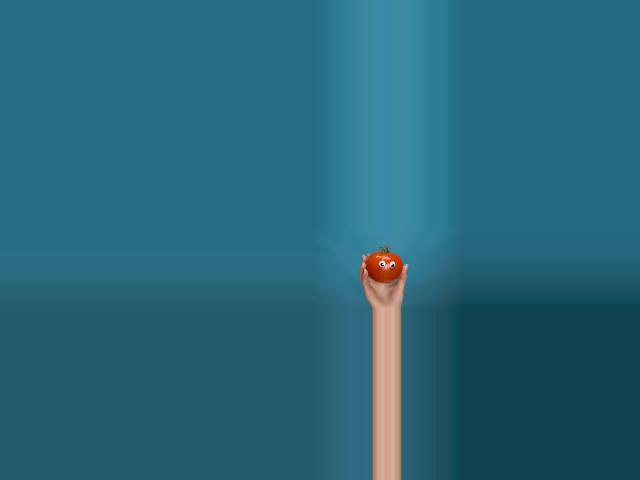tomato: (365, 251, 403, 283)
